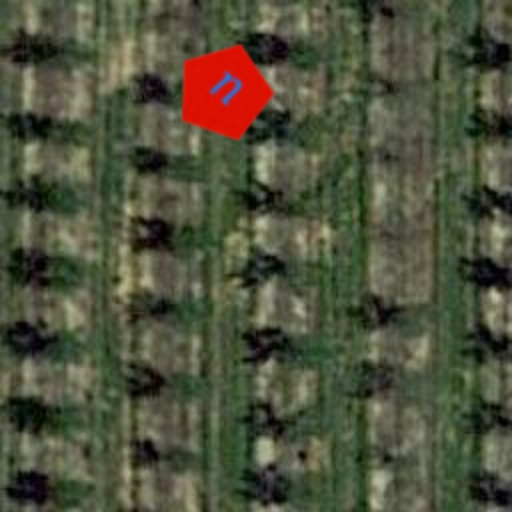pentagon: (152, 20, 296, 164)
